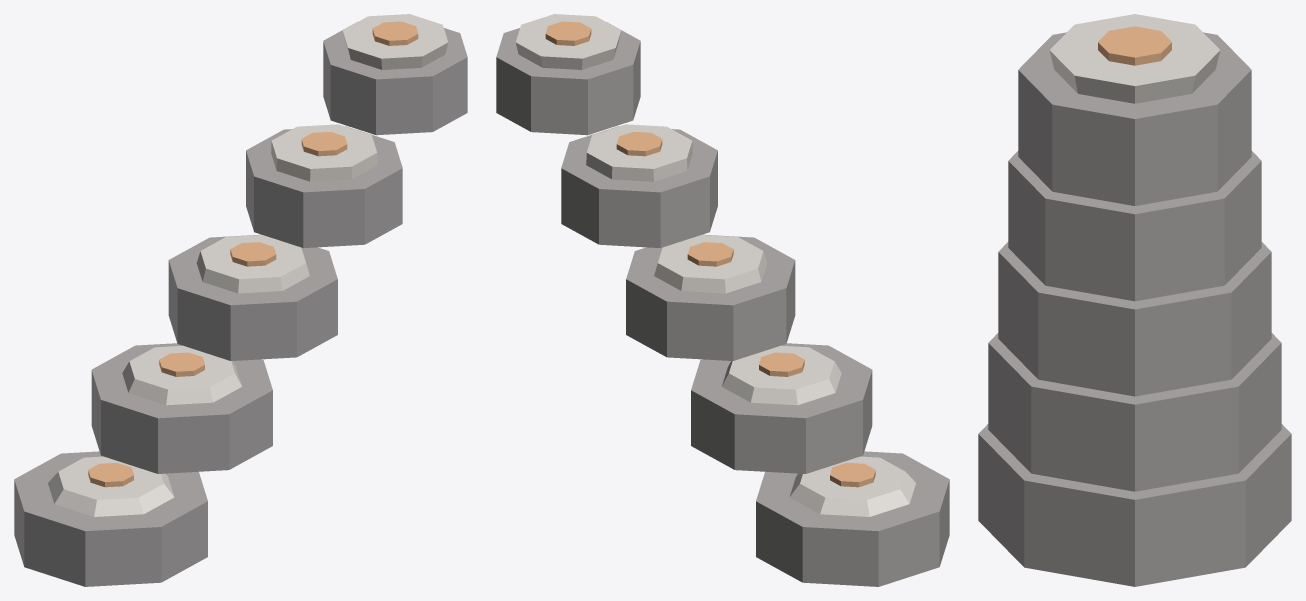
The model's file is steam_stair_near-DUWJ774N.glb.
The picture shows the model from 3 angles, left to right: view 1: azimuth 30°, elevation 25°; view 2: azimuth 150°, elevation 25°; view 3: azimuth 270°, elevation 25°; orthographic projection. The views are drawn at different scales.
Visible parts, largest first — view 1: steam_stair_near; view 2: steam_stair_near; view 3: steam_stair_near.
Boxes of the visible parts, x1=… form: steam_stair_near: x1=14, y1=14, x2=467, y2=586; steam_stair_near: x1=496, y1=14, x2=949, y2=586; steam_stair_near: x1=978, y1=14, x2=1291, y2=586.
Size of the model in its own units: 11.04 by 10.78 by 4.4.
